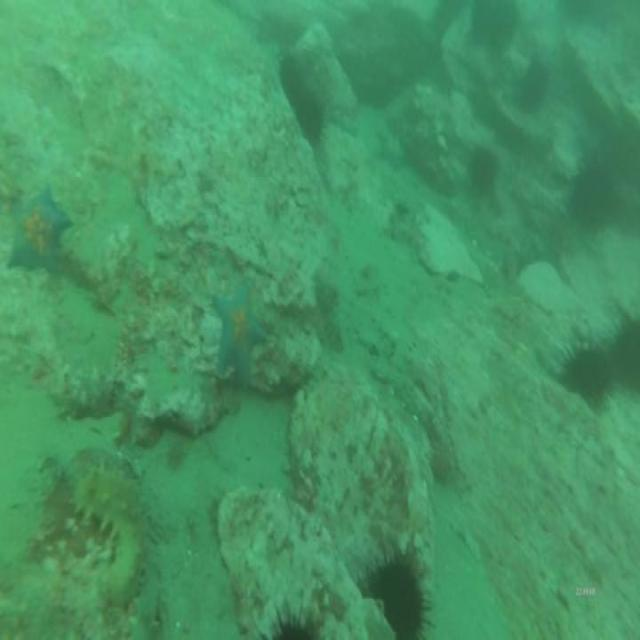echinus: (365, 545, 431, 640), (568, 150, 620, 242), (556, 335, 612, 414), (468, 0, 520, 58), (610, 311, 640, 400), (291, 85, 327, 154), (465, 141, 502, 207), (516, 54, 552, 118), (275, 49, 305, 107)
holothurian: (70, 458, 155, 621), (54, 359, 124, 428)
starfish: (209, 272, 268, 393), (5, 182, 75, 283)
